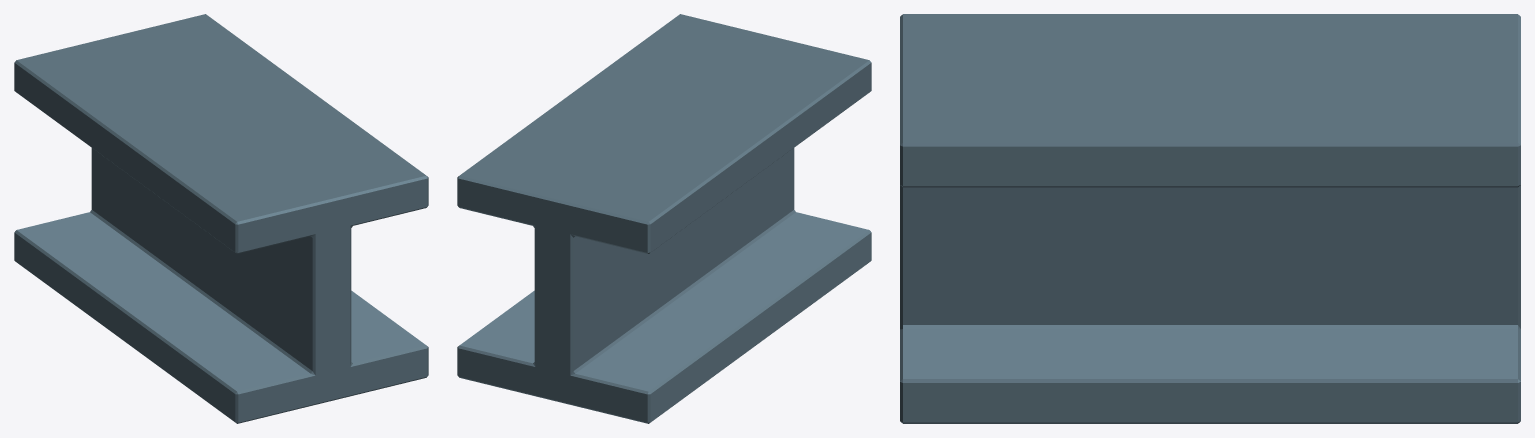
The model's file is P31_I_Beam.fbx.
3 renders of one model, left to right at view 1: azimuth 30°, elevation 25°; view 2: azimuth 150°, elevation 25°; view 3: azimuth 270°, elevation 25°, orthographic. The views are drawn at different scales.
Visible parts, largest first — view 1: P31_I_Beam; view 2: P31_I_Beam; view 3: P31_I_Beam.
Boxes of the visible parts, x1,y1,x2,y2 form: P31_I_Beam: (14, 14, 428, 423); P31_I_Beam: (457, 14, 871, 423); P31_I_Beam: (900, 14, 1520, 423).
Size of the model in its own units: 1 by 1 by 2.
1 material, 1 textured.
